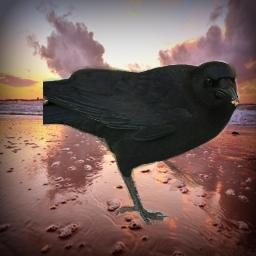Crow: (43, 60, 240, 225)
